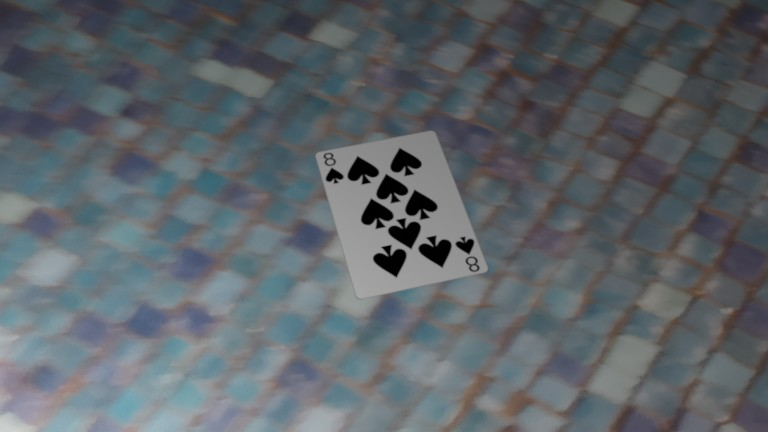8_of_spades: (180, 94, 195, 110), (126, 60, 139, 75)
